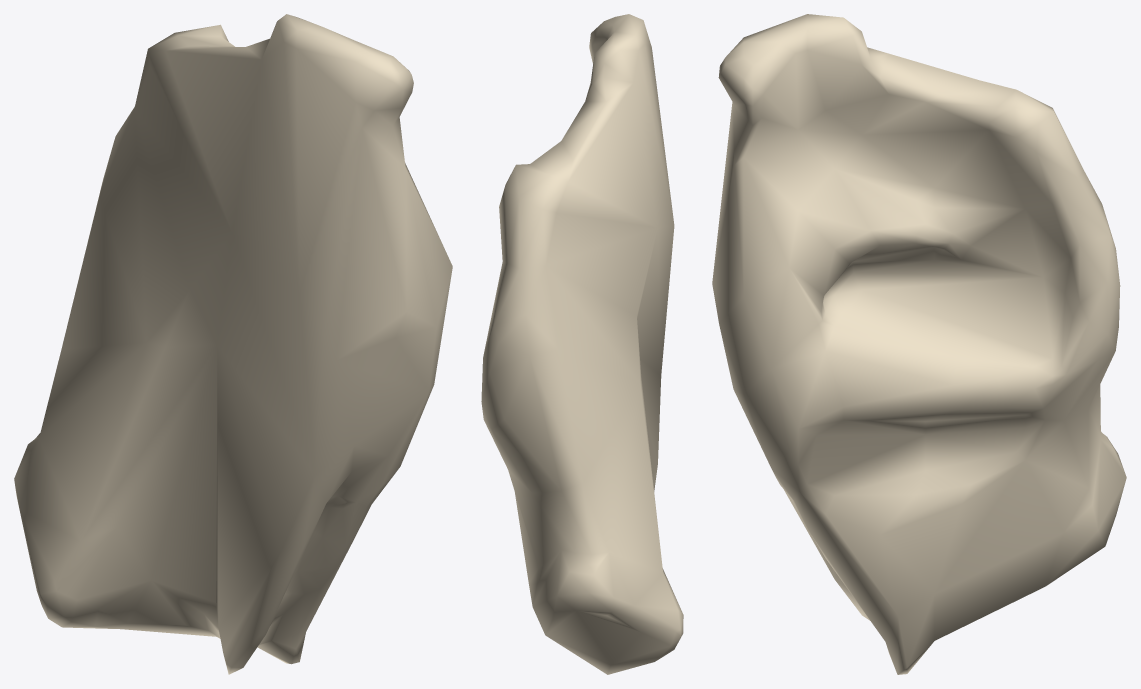
Rendered from lacrimal-bone-r.glb.
3 views of the same model, side by side, from view 1: azimuth 30°, elevation 25°; view 2: azimuth 150°, elevation 25°; view 3: azimuth 270°, elevation 25° (orthographic). The views are drawn at different scales.
Parts seen in each view (by area): view 1: Lacrimal bone.r; view 2: Lacrimal bone.r; view 3: Lacrimal bone.r.
Boxes of the visible parts, left/top/right/bottom form: Lacrimal bone.r: left=14, top=14, right=452, bottom=674; Lacrimal bone.r: left=481, top=14, right=683, bottom=674; Lacrimal bone.r: left=712, top=14, right=1126, bottom=674.
Size of the model in its own units: 0.0107 by 0.0251 by 0.0147.
